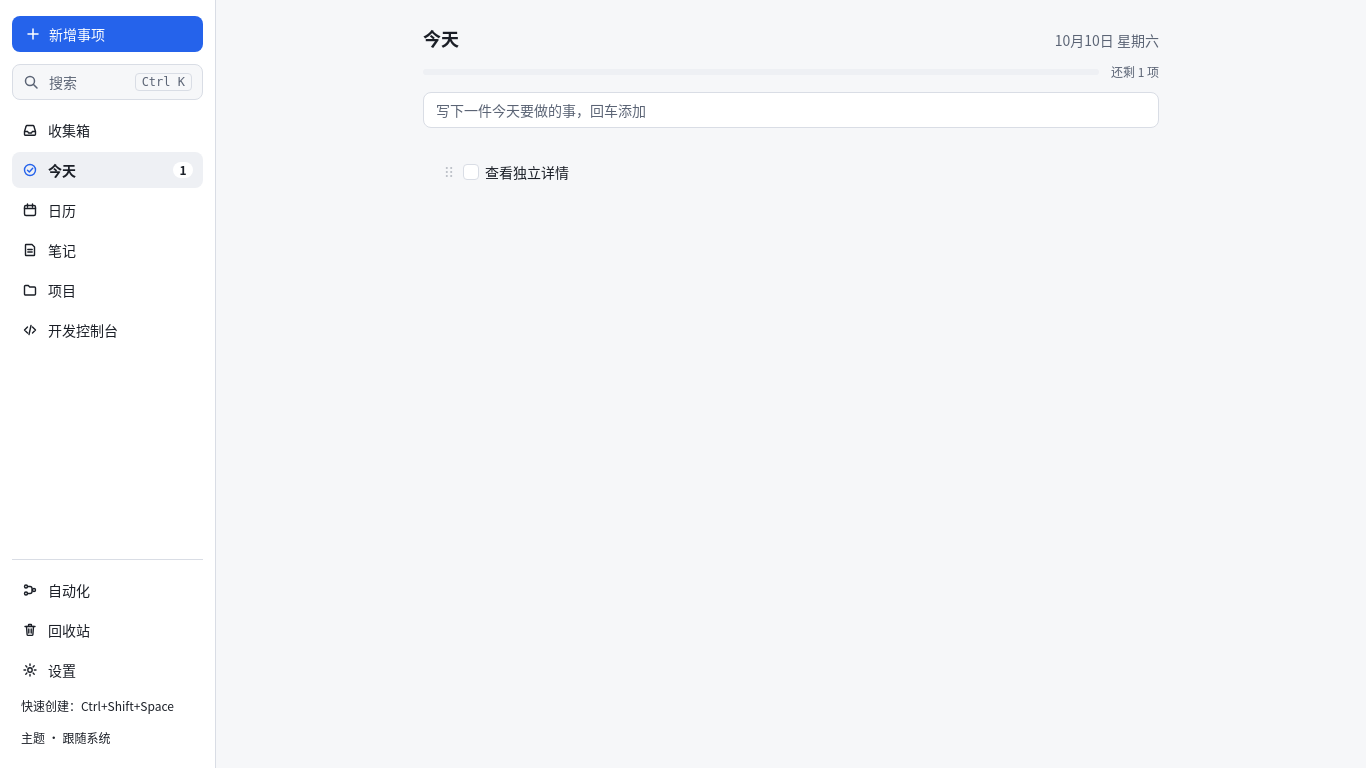
Test case: 主窗口内容区详情 › 在主内容区查看详情，关闭回到列表，侧栏导航仍然可用
This screenshot has width=1366, height=768.
Later steps or results of the test are not shown.
Click the button "查看独立详情".
click(527, 172)  # box [485,162,1113,182]
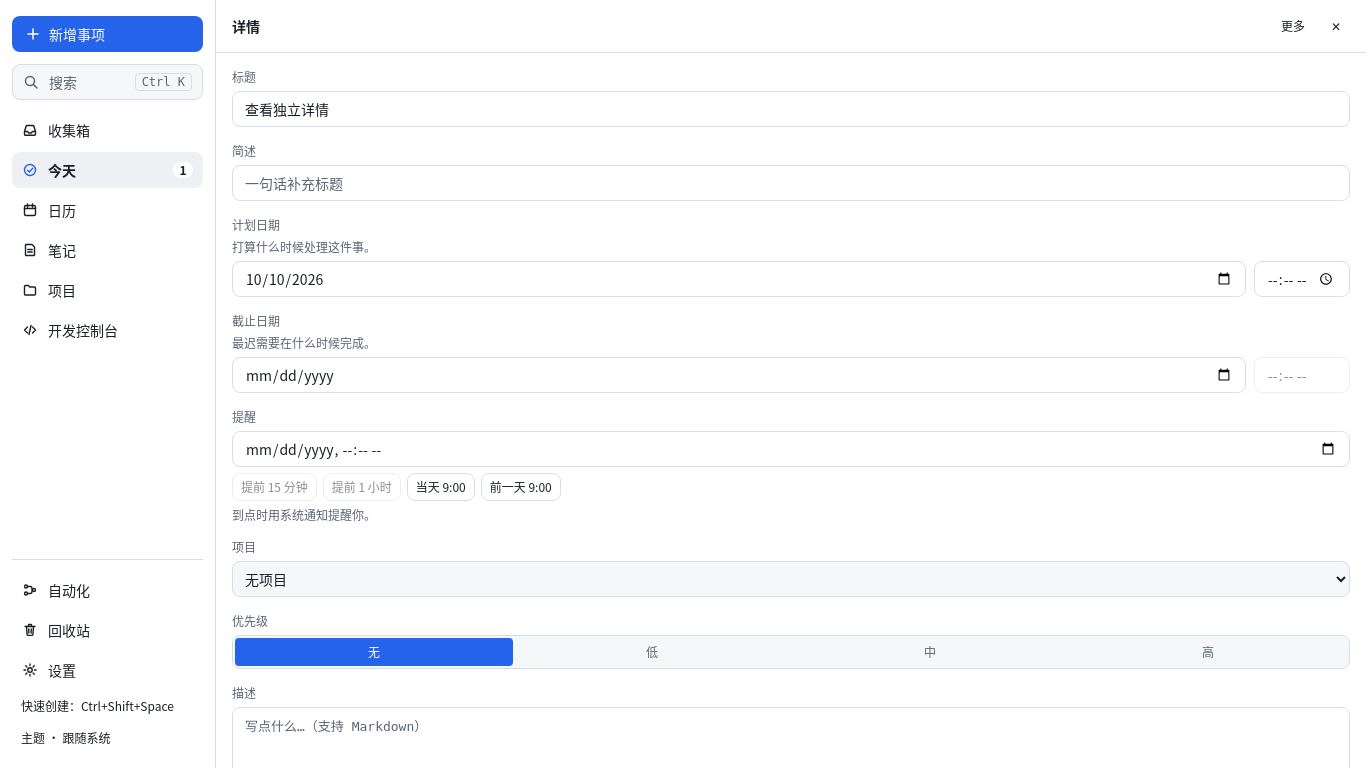
Result: the field showing "查看独立详情" is shown at [232,91,1350,127]
Click the button named "关闭详情".
click(1336, 26)  # box [1322,12,1350,40]
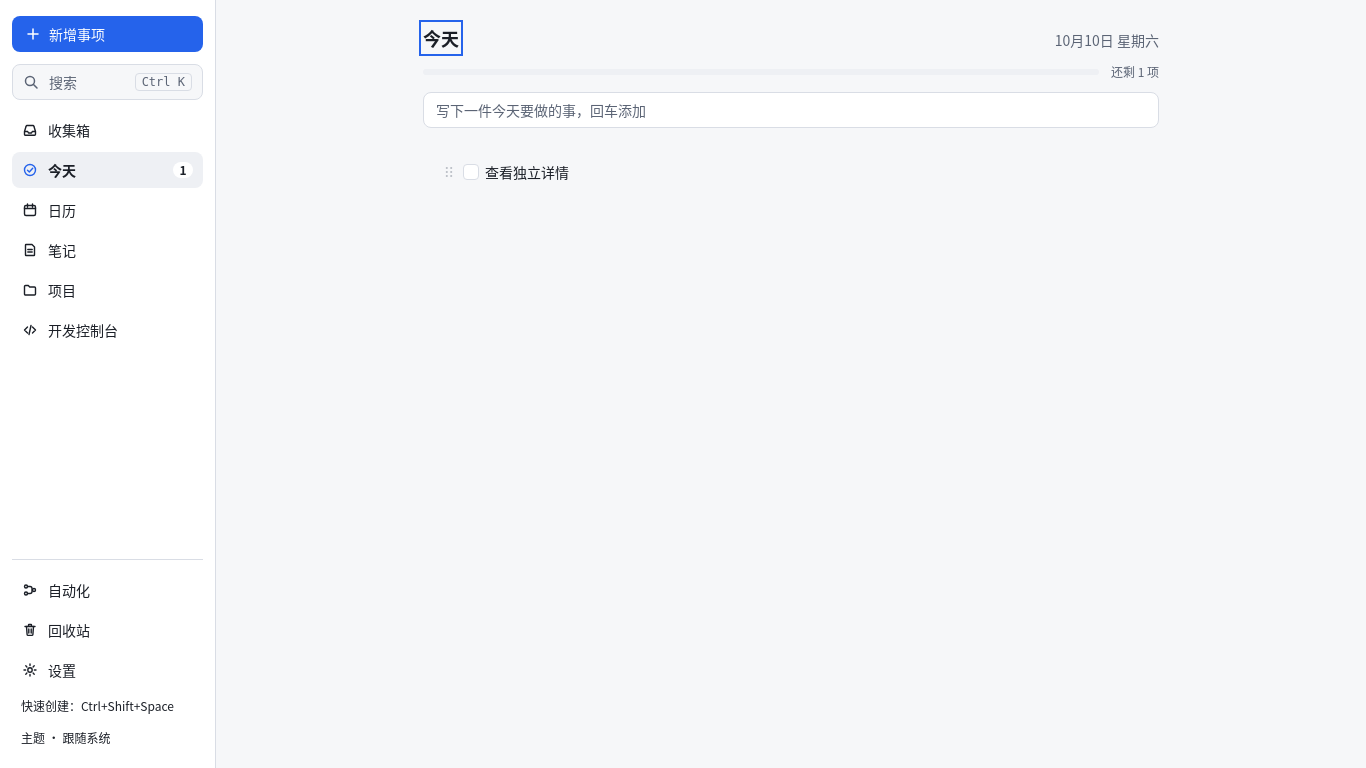
Result: the field labelled "条目详情" is gone
Click the button "查看独立详情".
click(527, 172)  # box [485,162,1113,182]
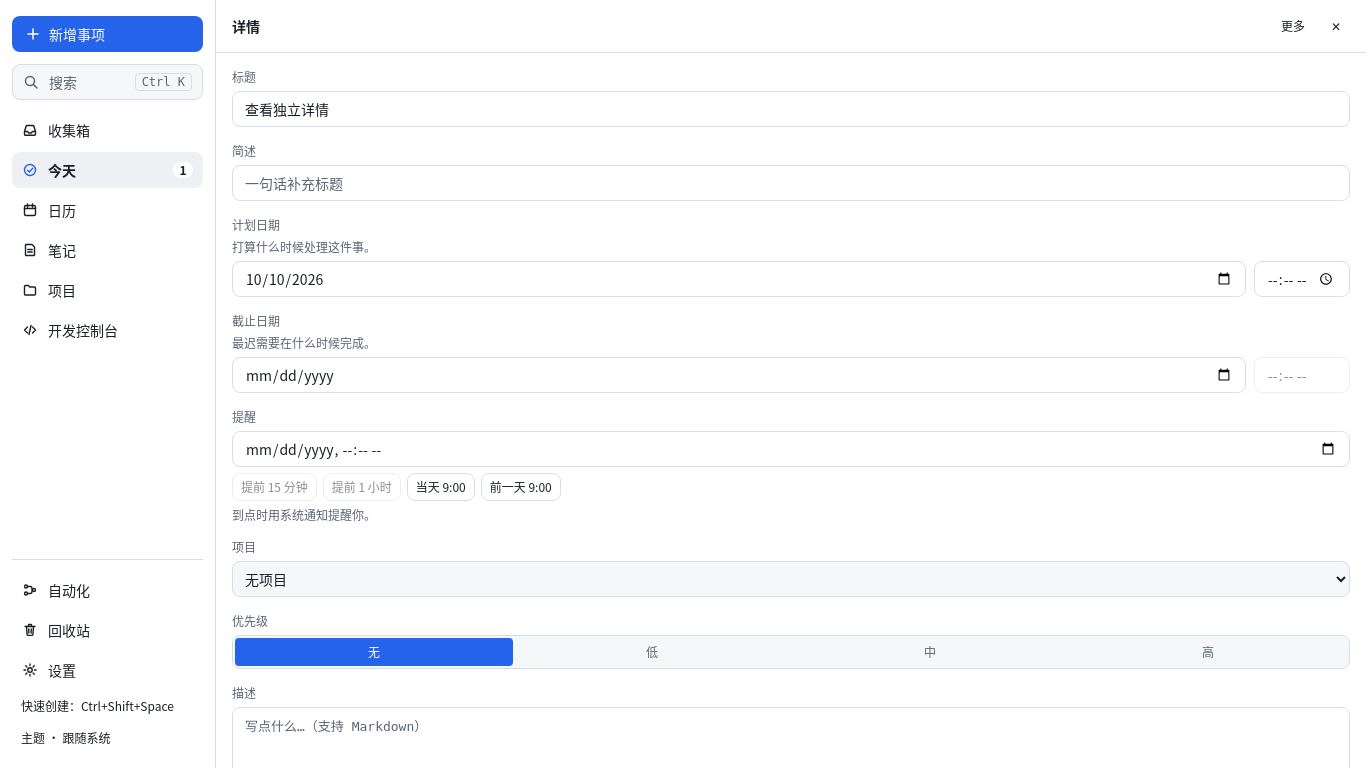
Result: the element named "条目详情" is shown
